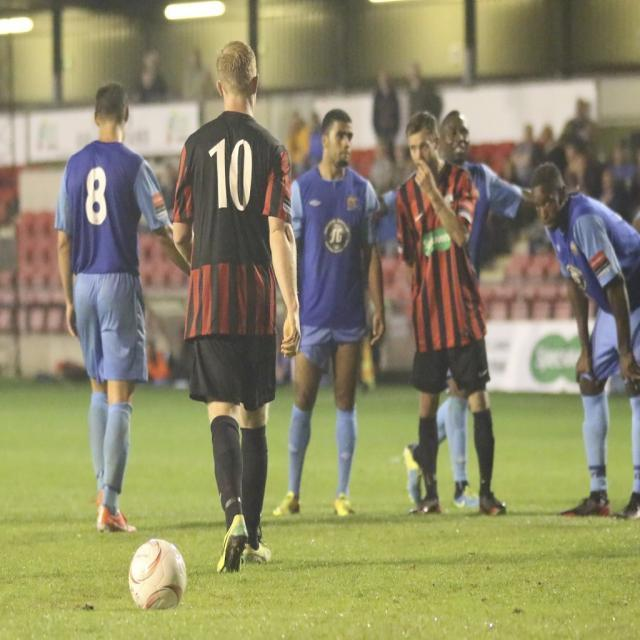football: (114, 524, 206, 617)
